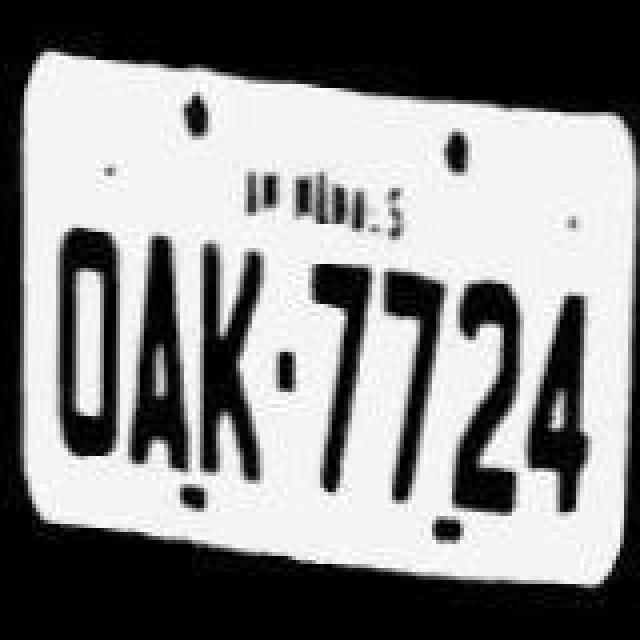2: (442, 274, 526, 514)
4: (520, 272, 600, 536)
7: (370, 256, 446, 516), (298, 254, 378, 498)
A: (122, 230, 202, 486)
K: (190, 230, 270, 486)
O: (44, 202, 136, 478)
